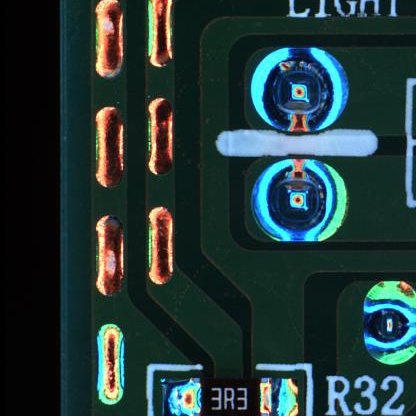spot: (242, 40, 358, 138), (247, 156, 365, 249)
